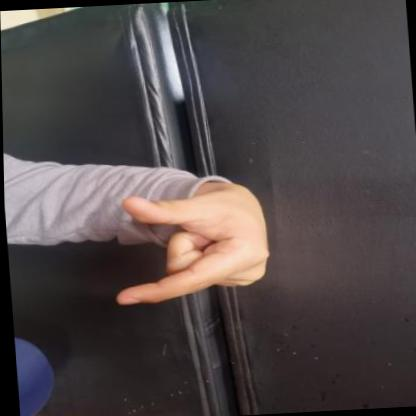G: (84, 153, 291, 318)
